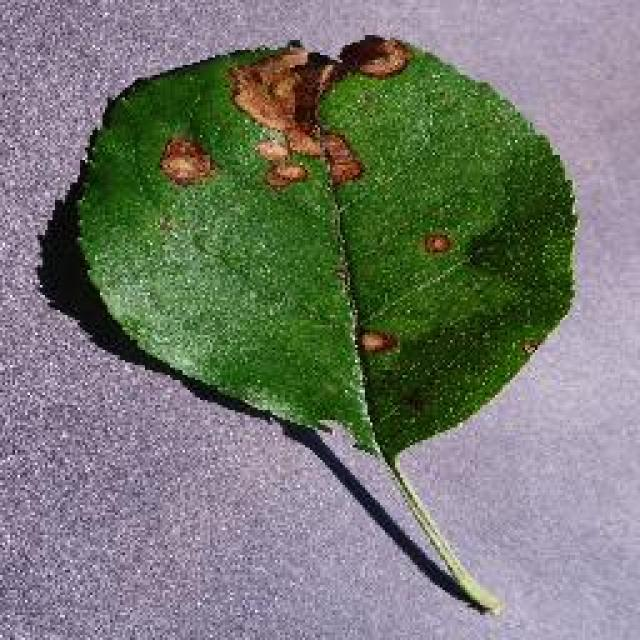Apple___Black_rot: (72, 32, 583, 465)
